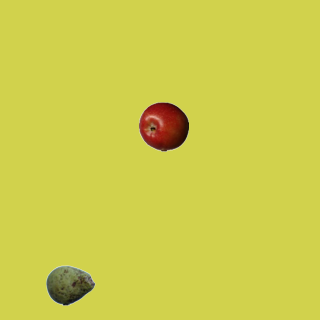Apple Braeburn: (138, 101, 188, 151)
Pear Stone: (45, 260, 95, 310)
